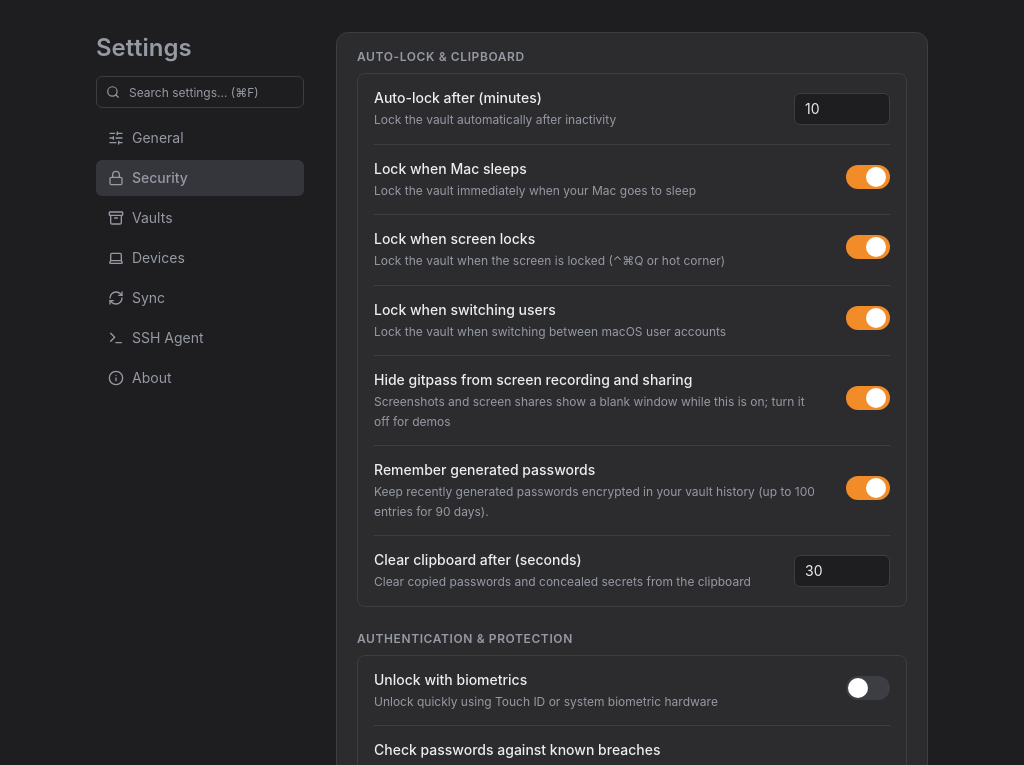
Test: settings › shows "not supported yet" when backend rejects biometric unlock
This screenshot has width=1024, height=765.
Click the switch named "biometric".
click(868, 688)  # box [846,676,890,700]
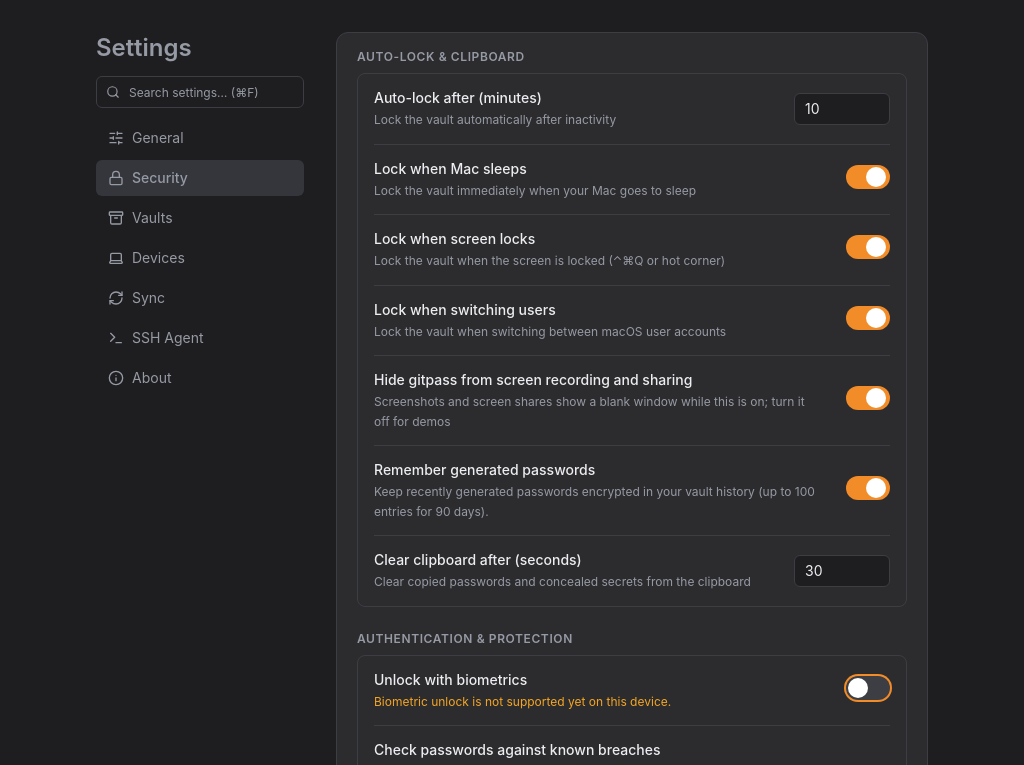
Expected: the text "Biometric unlock is not supported yet on this device." is shown, [374,694,671,708]
